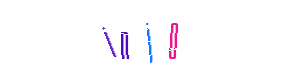0: (133, 0, 213, 80)
I: (87, 0, 167, 80)
J: (105, 0, 185, 80)
N: (104, 0, 184, 80)
